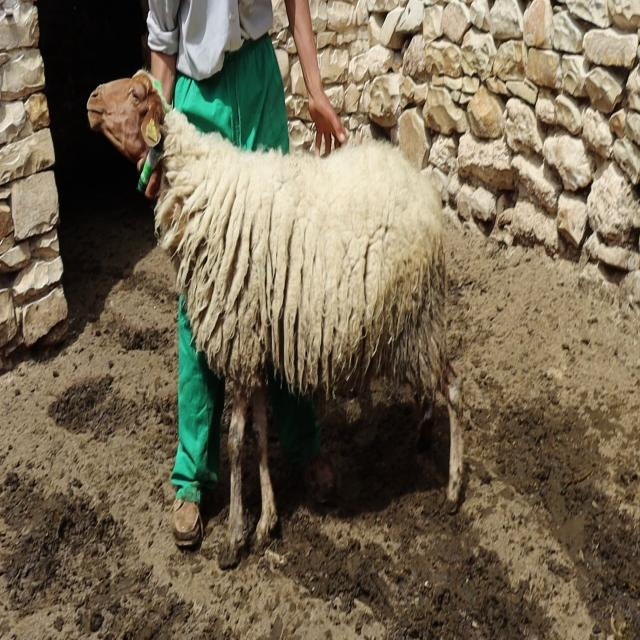Score_3: (87, 71, 464, 568)
